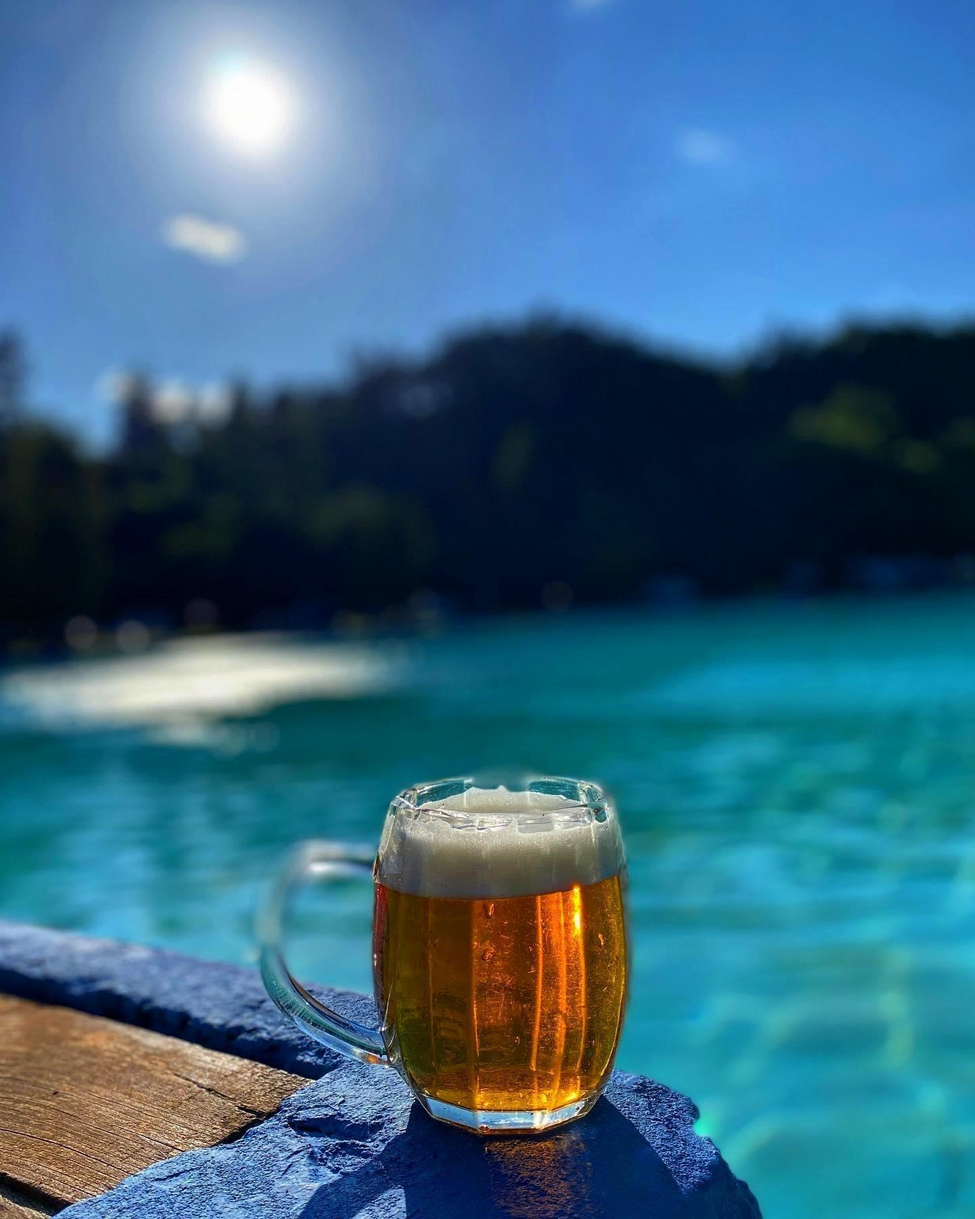glass-mug: (257, 769, 646, 1139)
